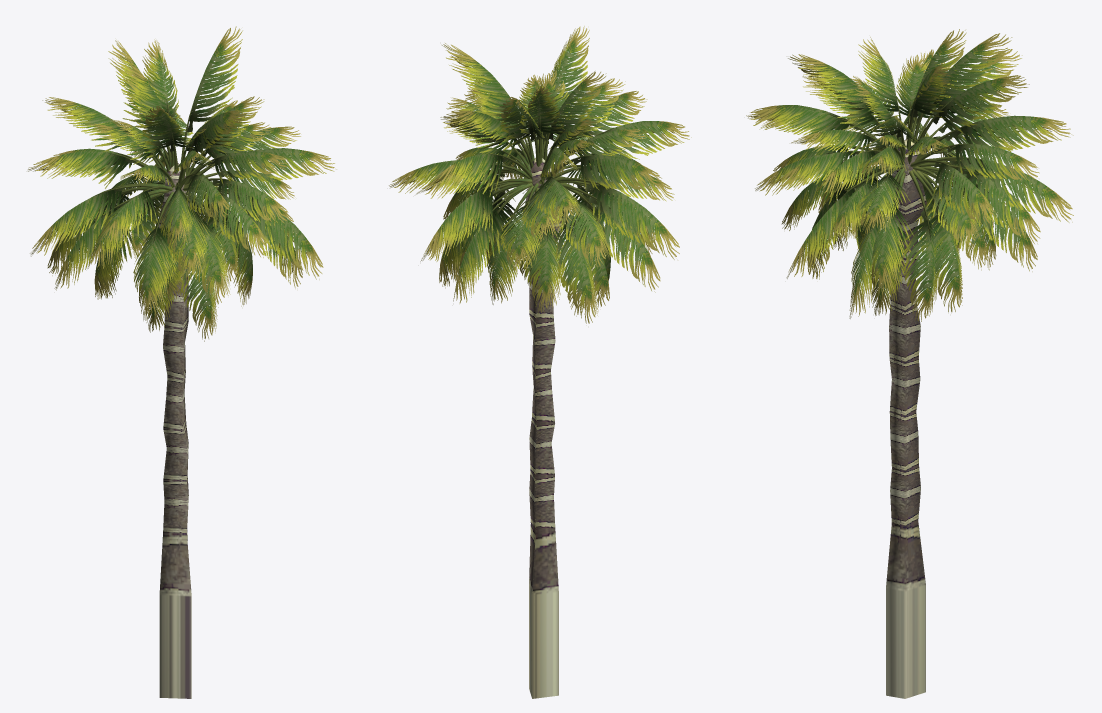
File: flora_tree_palm_royal_v3.glb
3 views of the same model, side by side, from view 1: azimuth 30°, elevation 25°; view 2: azimuth 150°, elevation 25°; view 3: azimuth 270°, elevation 25° (orthographic). The views are drawn at different scales.
Visible parts, largest first — view 1: flora_tree_palm_royal_v3_part0; view 2: flora_tree_palm_royal_v3_part0; view 3: flora_tree_palm_royal_v3_part0.
Boxes of the visible parts, x1,y1,x2,y2 form: flora_tree_palm_royal_v3_part0: (28,26,336,698); flora_tree_palm_royal_v3_part0: (389,26,691,698); flora_tree_palm_royal_v3_part0: (746,29,1073,698).
Size of the model in its own units: 14.86 by 32.47 by 15.71.
1 material, 1 textured.
